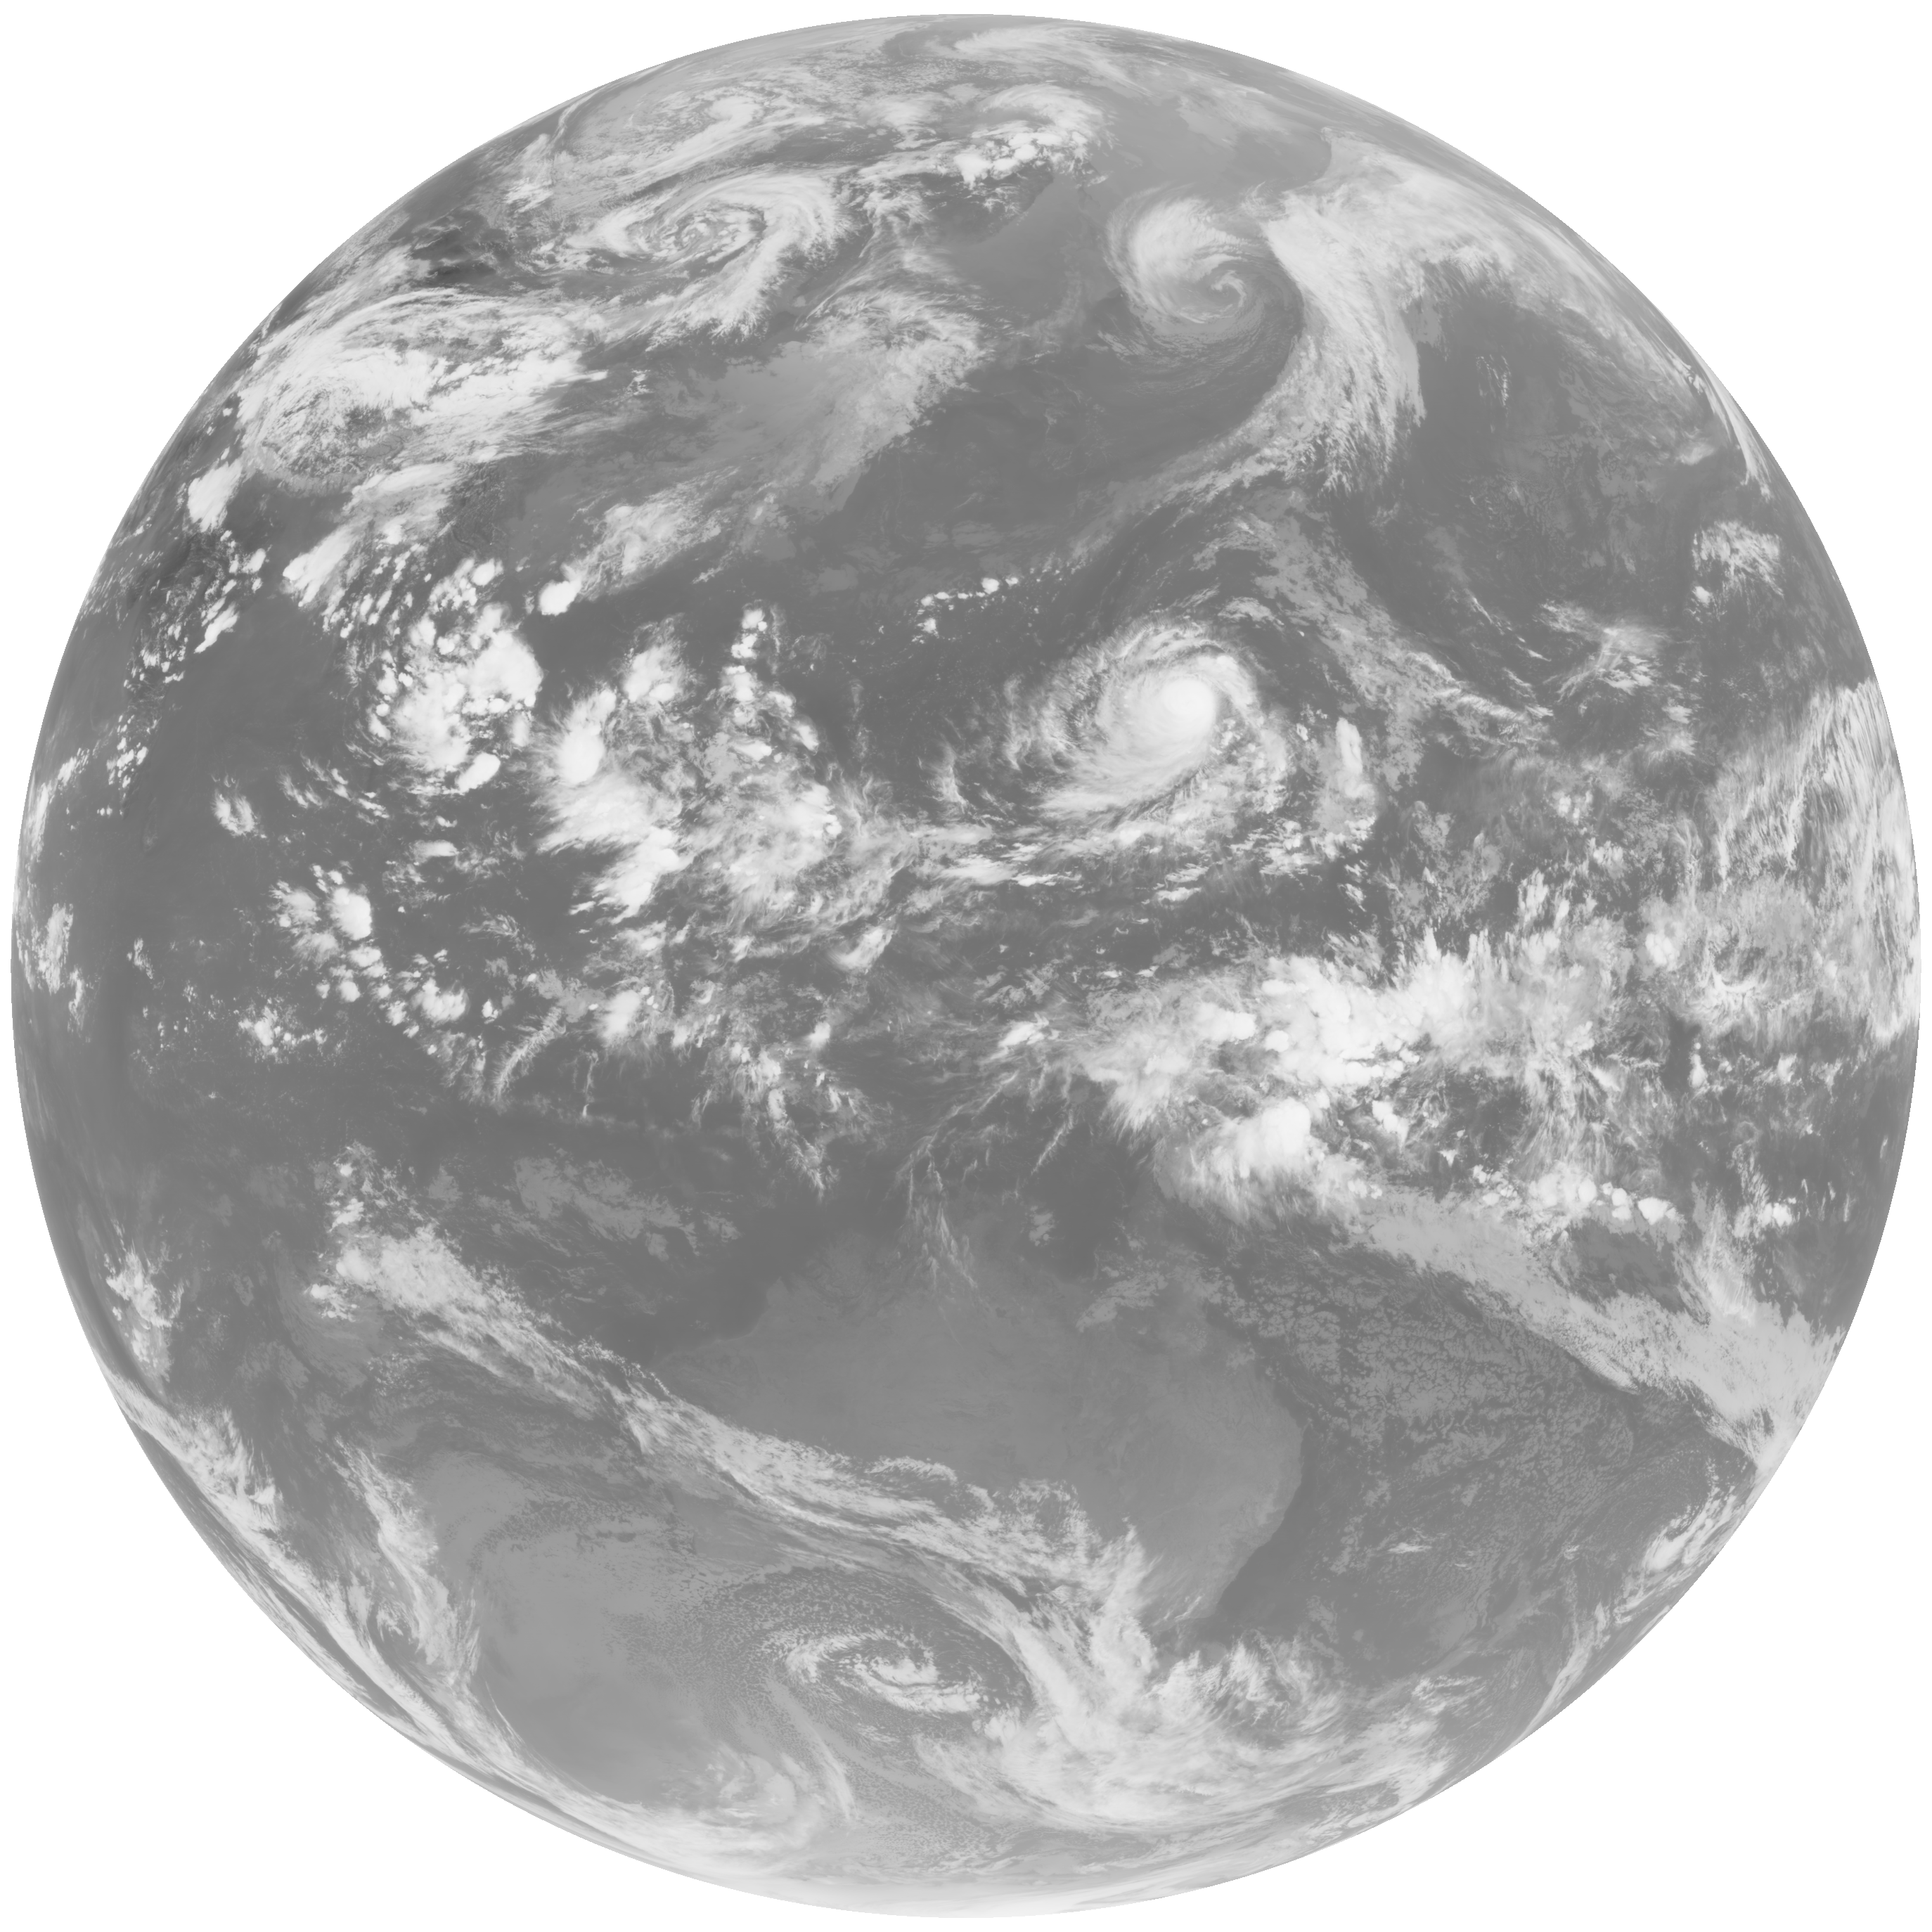typhoon: (915, 564, 1373, 904)
